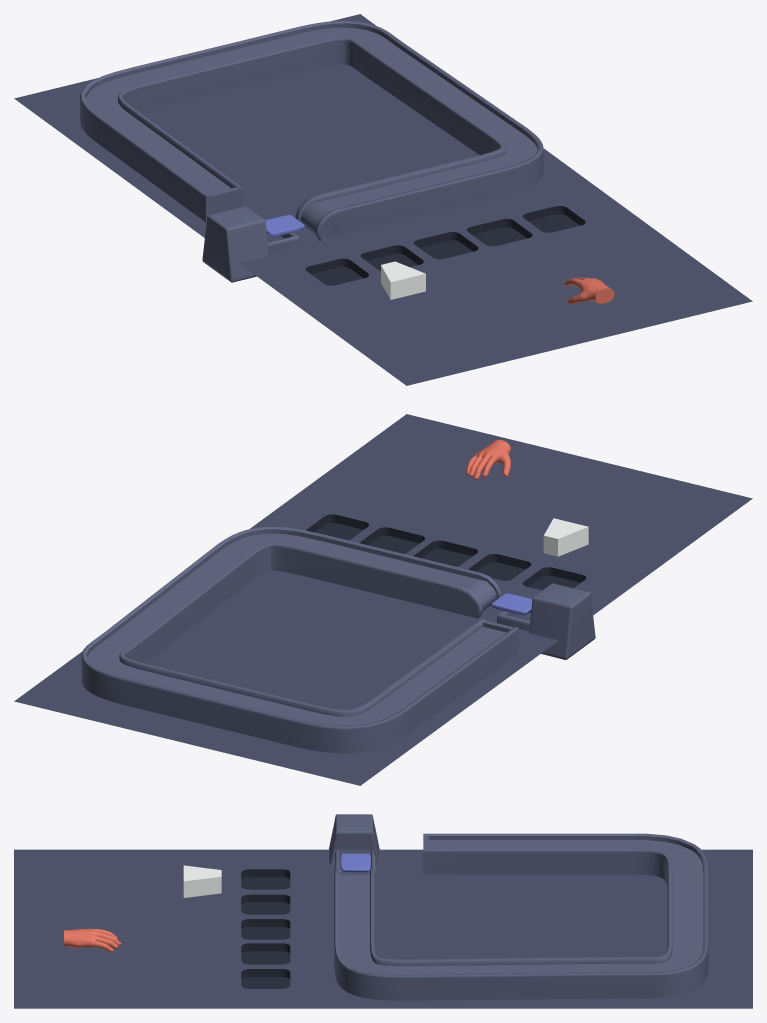
File: FishTank.glb
3 renders of one model, top to bottom at view 1: azimuth 30°, elevation 25°; view 2: azimuth 150°, elevation 25°; view 3: azimuth 270°, elevation 25°, orthographic. The views are drawn at different scales.
Parts seen in each view (by area): view 1: Floor, Belt.002, Board, Hand, Plate; view 2: Floor, Belt.002, Board, Hand, Plate; view 3: Floor, Belt.002, Board, Hand, Plate.
Part boxes in pixels (bbox=[...]): Floor: bbox=[14, 14, 752, 385]; Belt.002: bbox=[80, 21, 543, 282]; Board: bbox=[381, 261, 425, 299]; Hand: bbox=[564, 277, 614, 304]; Plate: bbox=[265, 215, 304, 236]; Floor: bbox=[14, 414, 752, 785]; Belt.002: bbox=[81, 527, 595, 753]; Board: bbox=[543, 518, 588, 556]; Hand: bbox=[465, 439, 510, 479]; Plate: bbox=[491, 593, 532, 615]; Floor: bbox=[14, 849, 752, 1008]; Belt.002: bbox=[329, 814, 708, 1000]; Board: bbox=[183, 865, 221, 897]; Hand: bbox=[64, 928, 121, 952]; Plate: bbox=[341, 853, 370, 872].
Bounding box in the file's own units: 2.92 × 0.4012 × 5.58.
